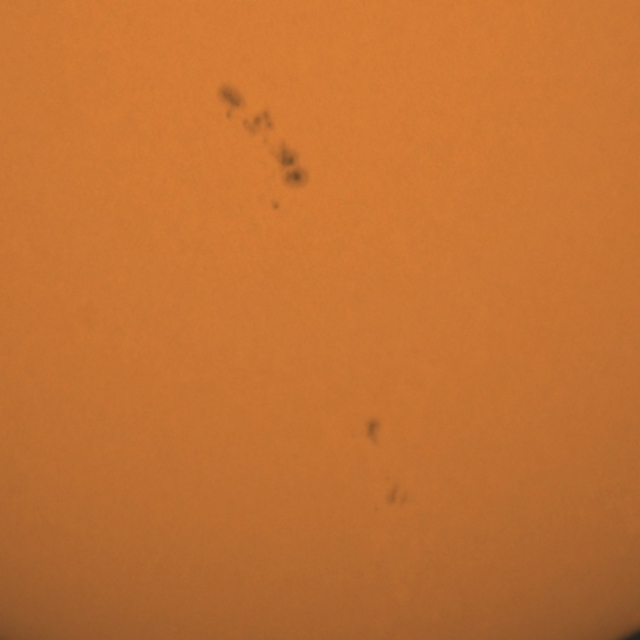sunspot: (218, 82, 277, 138), (239, 107, 278, 150), (277, 148, 306, 188), (384, 476, 409, 510), (362, 416, 383, 447), (270, 199, 282, 212)
